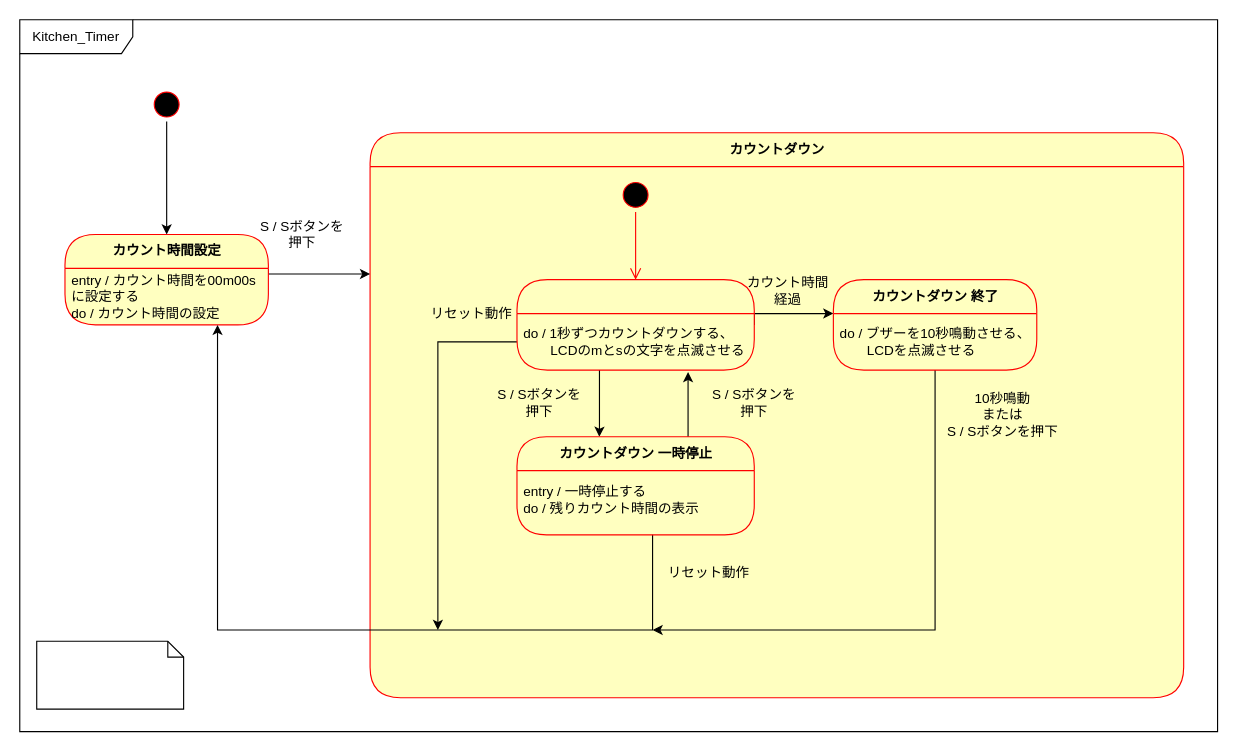
This 1237x751 diagram has some shape labels left out. Each missing label, with the box of its shape:
カウントダウン中: (516, 279, 754, 370)
スタートストップ ボタンを S/Sボタン と表記する: (36, 640, 184, 709)
